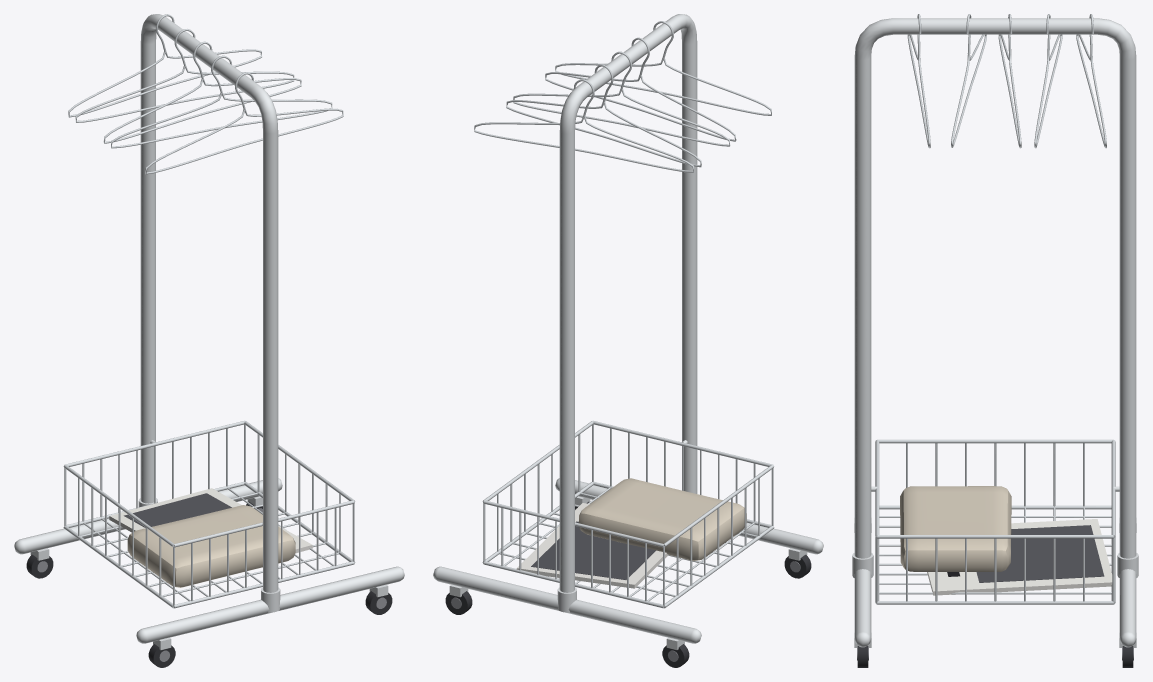
The model's file is rack-vetements.glb.
3 views of the same model, side by side, from view 1: azimuth 30°, elevation 25°; view 2: azimuth 150°, elevation 25°; view 3: azimuth 270°, elevation 25° (orthographic). The views are drawn at different scales.
Visible parts, largest first — view 1: rack-vetements; view 2: rack-vetements; view 3: rack-vetements.
Part boxes in pixels (bbox=[...]): rack-vetements: bbox=[14, 14, 404, 667]; rack-vetements: bbox=[433, 14, 823, 667]; rack-vetements: bbox=[852, 14, 1138, 667].
Bounding box in the file's own units: 0.505 × 0.9896 × 0.432.
